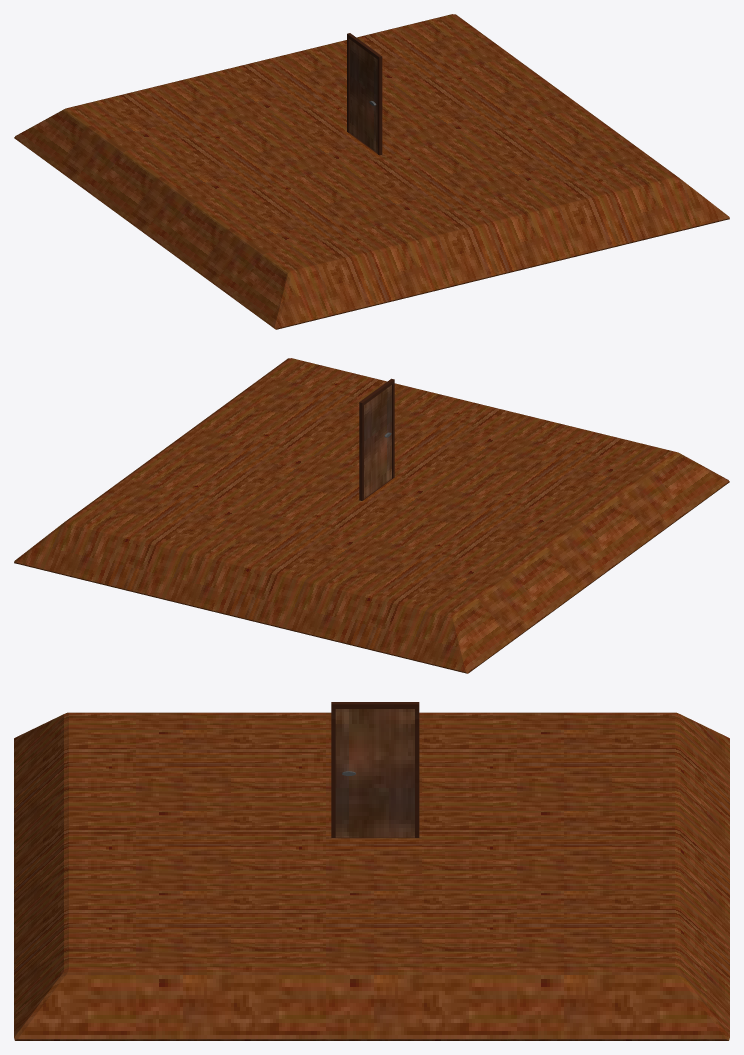
Rendered from door.glb.
The picture shows the model from 3 angles, top to bottom: view 1: azimuth 30°, elevation 25°; view 2: azimuth 150°, elevation 25°; view 3: azimuth 270°, elevation 25°; orthographic projection. The views are drawn at different scales.
Visible parts, largest first — view 1: Floor, door; view 2: Floor, door; view 3: Floor, door.
Part boxes in pixels (x1,y1,x2,y2): Floor: [14, 14, 729, 329]; door: [347, 33, 382, 155]; Floor: [14, 358, 729, 673]; door: [359, 378, 394, 500]; Floor: [14, 712, 729, 1040]; door: [331, 702, 419, 837].
Size of the model in its own units: 11.74 by 3.3 by 11.74.
Materials: 4 (3 with a texture image).
